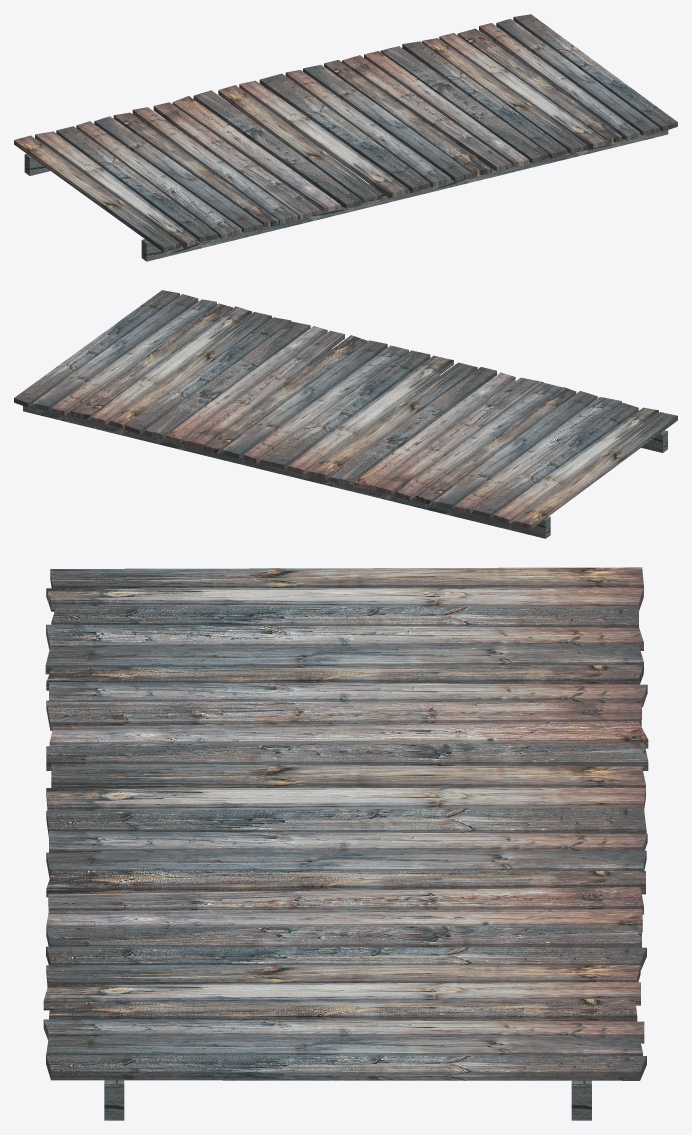
File: WoodDeck.FBX
The picture shows the model from 3 angles, top to bottom: view 1: azimuth 30°, elevation 25°; view 2: azimuth 150°, elevation 25°; view 3: azimuth 270°, elevation 25°; orthographic projection. The views are drawn at different scales.
Visible parts, largest first — view 1: WoodDeck; view 2: WoodDeck; view 3: WoodDeck.
Boxes of the visible parts, x1=… form: WoodDeck: x1=14, y1=14, x2=677, y2=261; WoodDeck: x1=14, y1=290, x2=677, y2=538; WoodDeck: x1=43, y1=567, x2=648, y2=1120.
Bounding box in the file's own units: 60 × 2.51 × 30.12.
